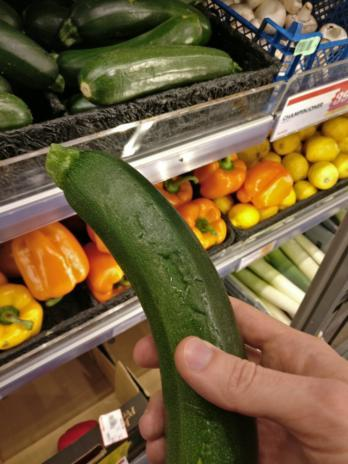Cucumber: (39, 141, 260, 464)
